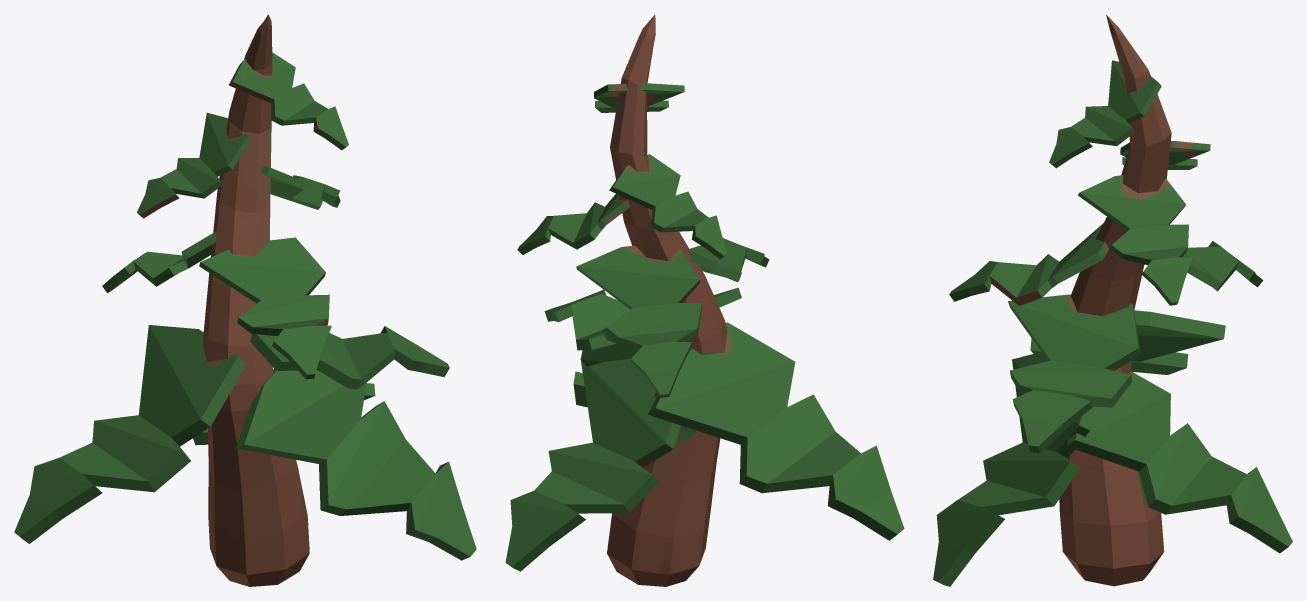
The model's file is tree.fbx.
3 renders of one model, left to right at view 1: azimuth 30°, elevation 25°; view 2: azimuth 150°, elevation 25°; view 3: azimuth 270°, elevation 25°, orthographic.
Visible parts, largest first — view 1: Tree; view 2: Tree; view 3: Tree.
Boxes of the visible parts, x1,y1,x2,y2 form: Tree: (14,14,476,586); Tree: (505,14,904,586); Tree: (933,14,1292,586).
Bounding box in the file's own units: 440 × 602 × 346.
Materials: 1 (1 with a texture image).
